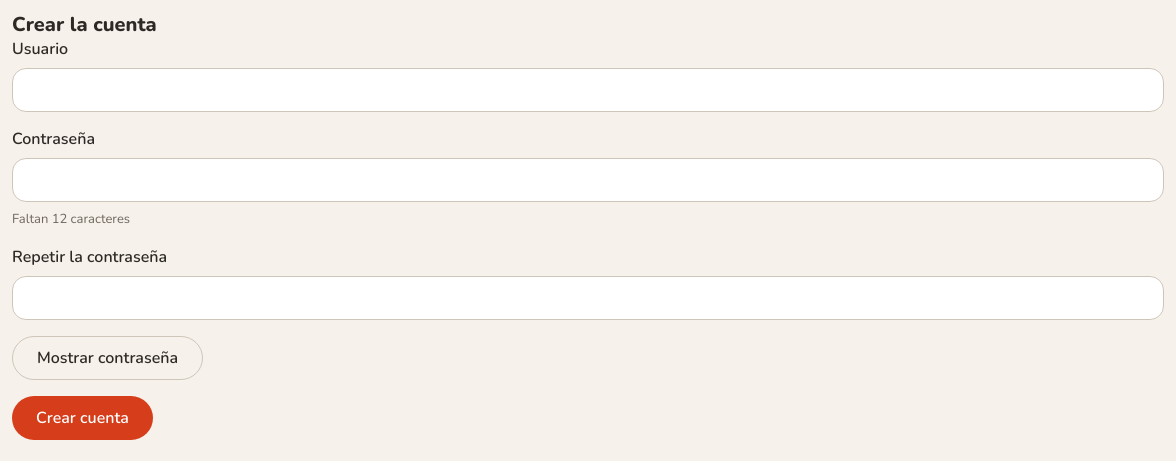
Test: CreateAccountForm: resultados del servidor › convierte los campos inválidos del servidor en errores y enfoca el primero
In the field labelled "Usuario": x=588, y=90 top-left (12, 68), bottom-right (1164, 112), type "Ana"
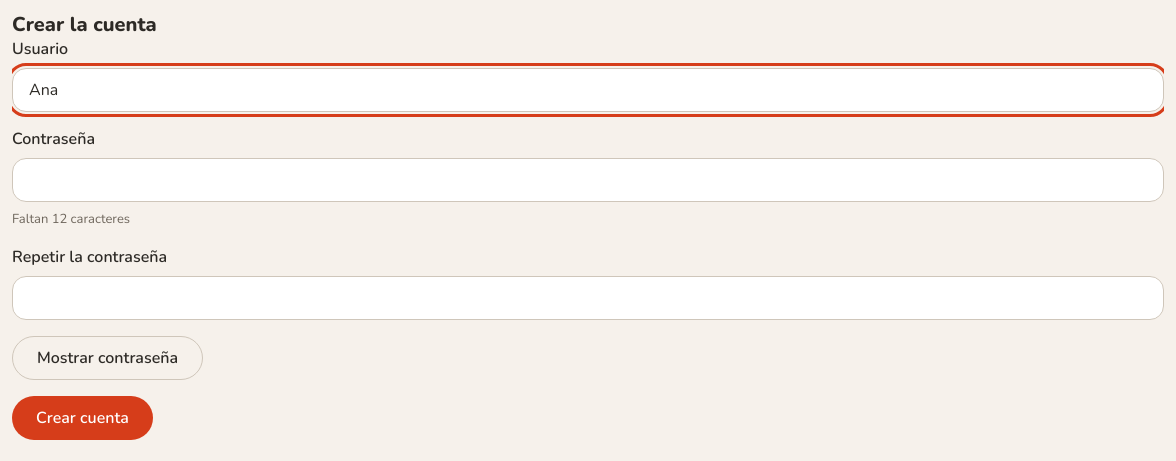
In the password field labelled "Contraseña": x=588, y=180 top-left (12, 158), bottom-right (1164, 202), type "una frase larga y secreta"
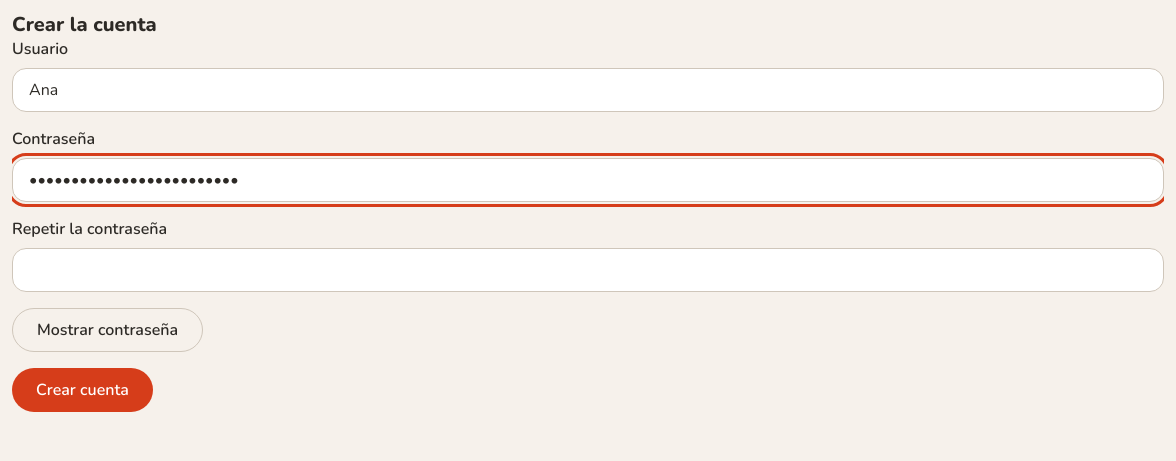
In the password field labelled "Repetir la contraseña": x=588, y=270 top-left (12, 248), bottom-right (1164, 292), type "una frase larga y secreta"
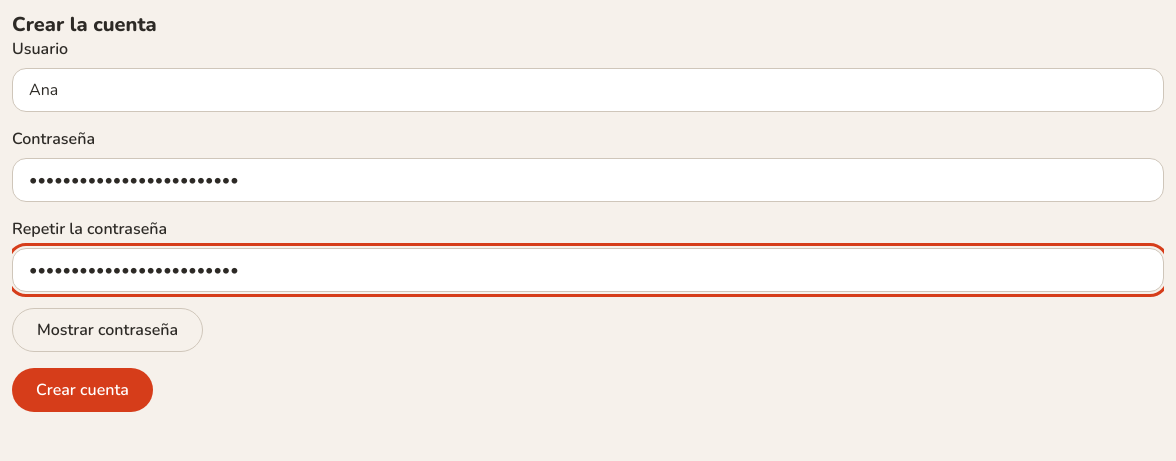
Click the button "Crear cuenta": x=82, y=390 top-left (12, 368), bottom-right (153, 412)
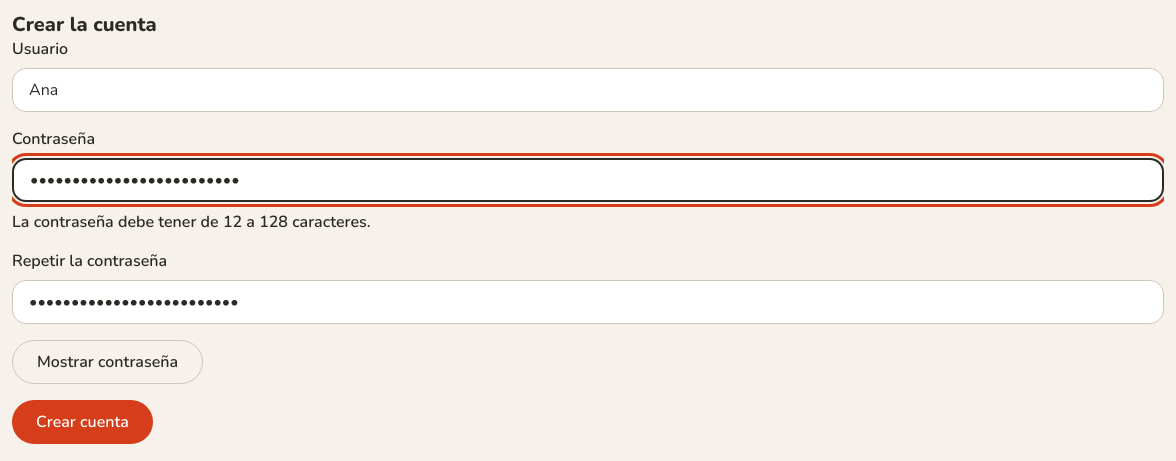
Result: the text "La contraseña debe tener de 12 a 128 caracteres." is shown at top-left (12, 211), bottom-right (370, 233)
Click the button "Crear cuenta": x=82, y=422 top-left (12, 400), bottom-right (153, 444)
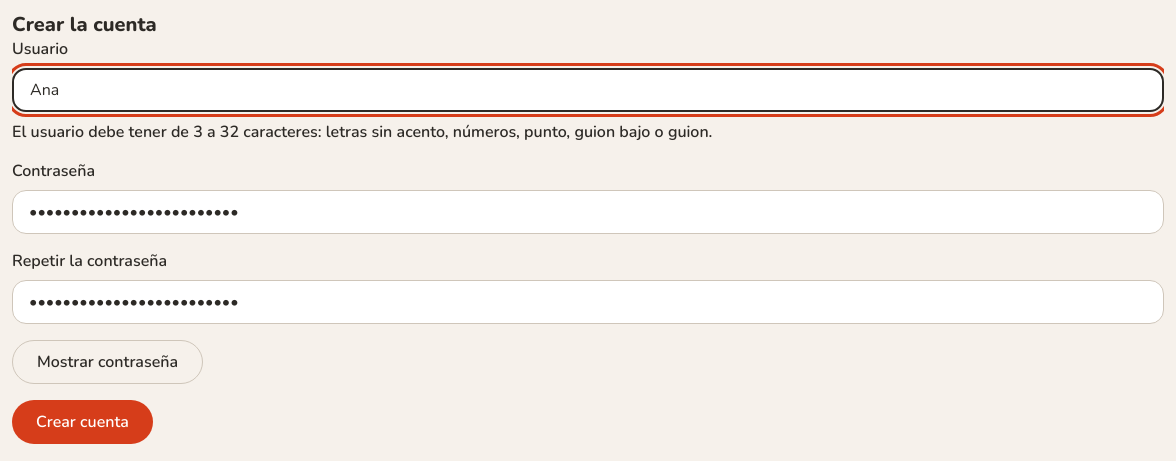
Result: the text "El usuario debe tener de 3 a 32 caracteres: letras sin acento, números, punto, guion bajo o guion." is shown at top-left (12, 121), bottom-right (712, 143)
Result: the text "La contraseña debe tener de 12 a 128 caracteres." is gone
